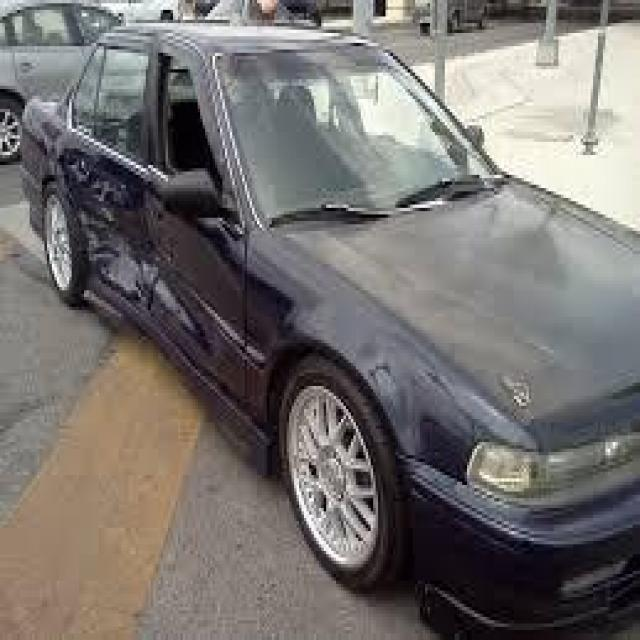damaged: (70, 158, 186, 336)
